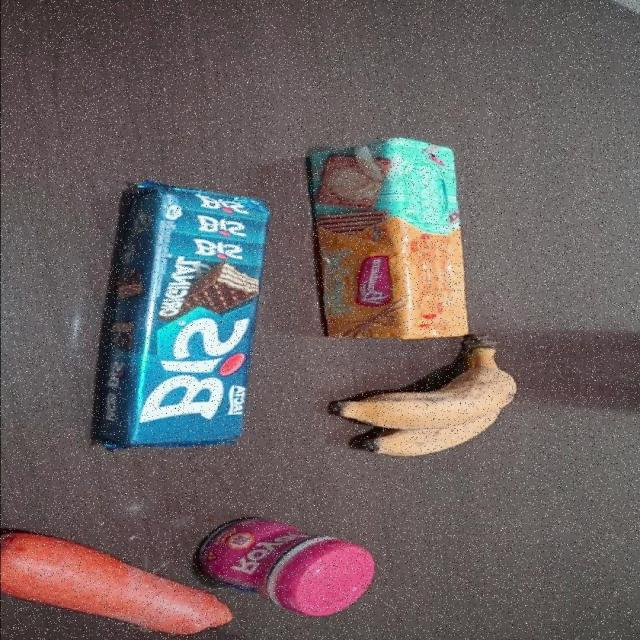Banana: (328, 327, 518, 457)
Carrot: (0, 530, 235, 635)
Cracker: (304, 137, 468, 343)
Yeast: (196, 514, 375, 618)
